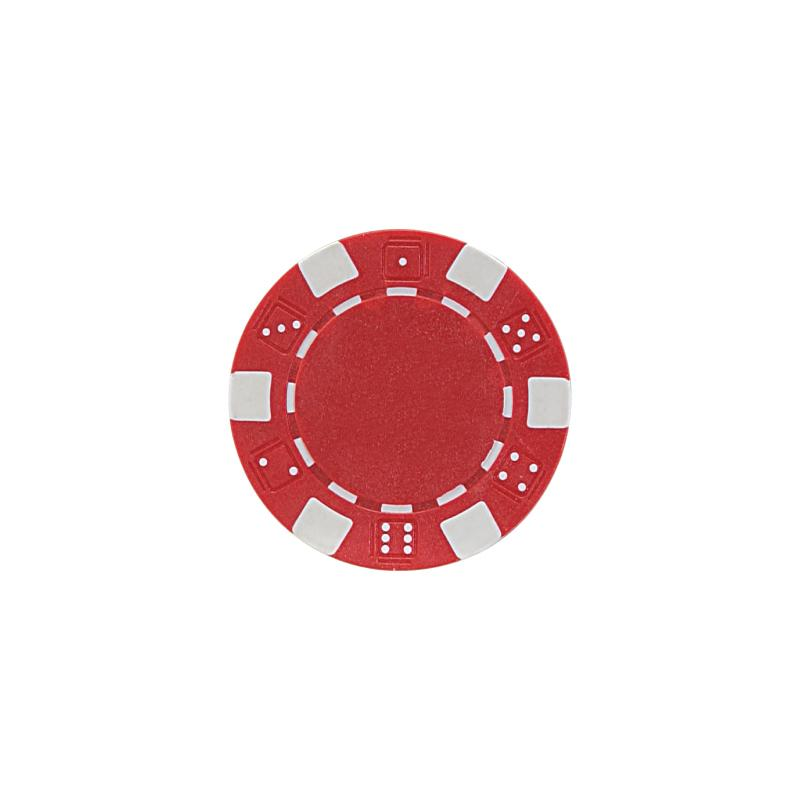chip-red: (230, 230, 570, 570)
